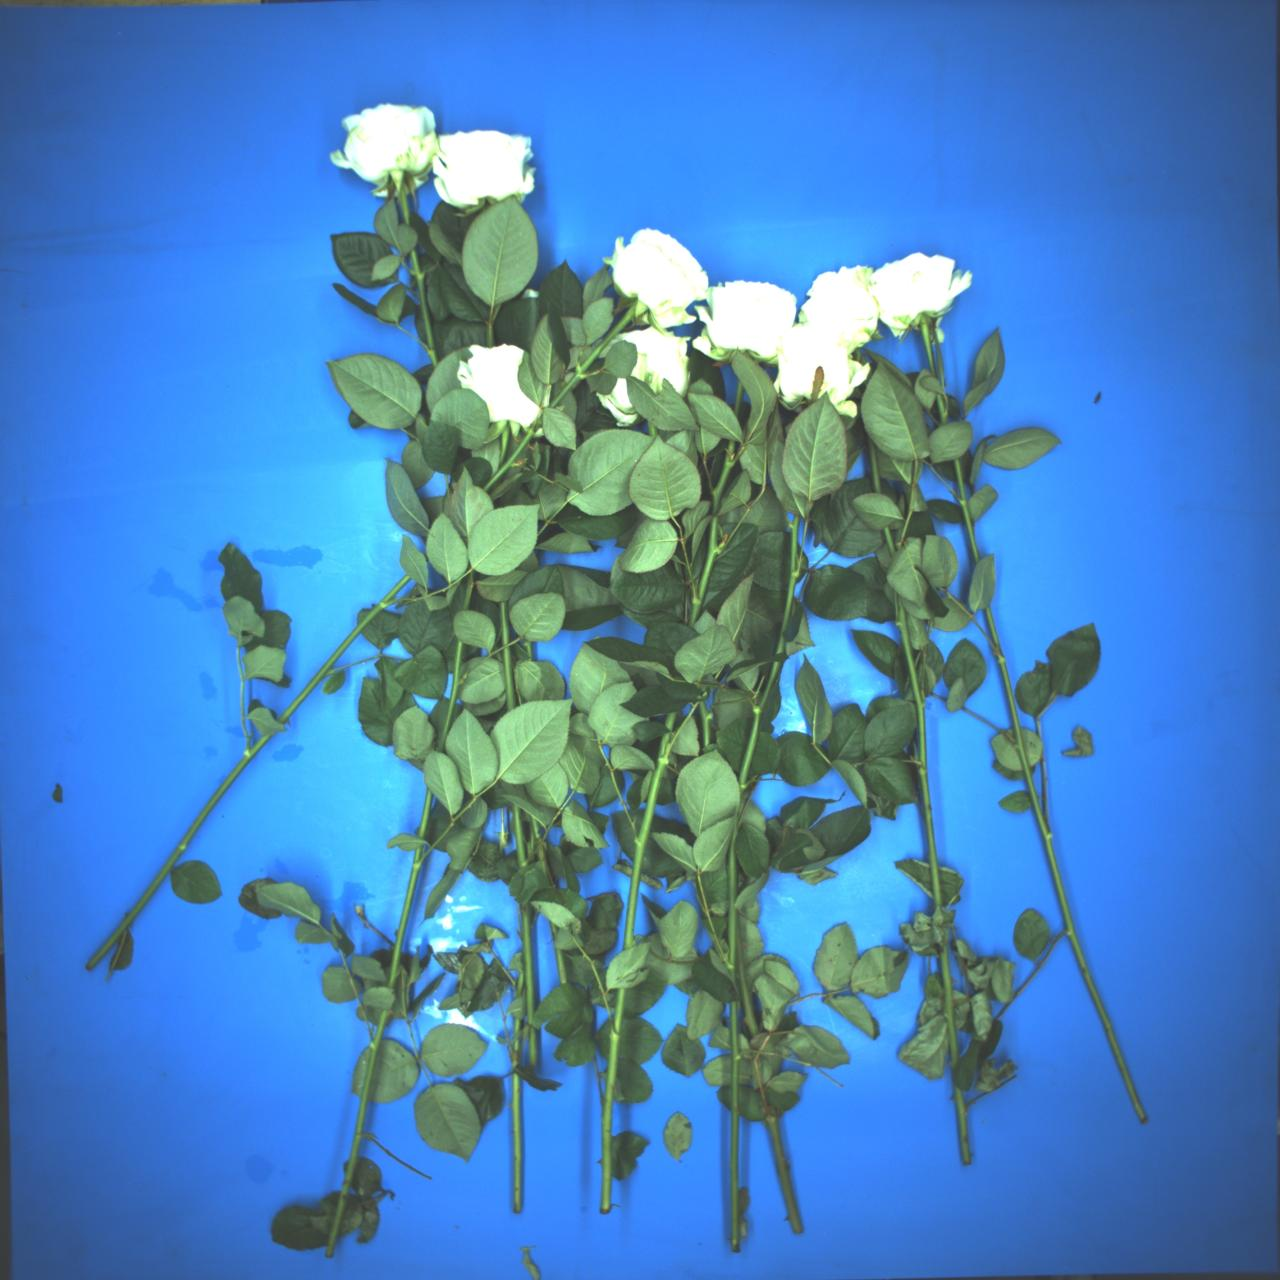Stem: (967, 606, 1149, 1130), (83, 730, 272, 973), (277, 572, 411, 726), (324, 1008, 389, 1258), (893, 595, 942, 910), (617, 730, 676, 952), (547, 307, 638, 410), (595, 988, 626, 1214), (730, 659, 779, 797), (384, 845, 425, 989), (680, 516, 730, 628), (765, 1116, 804, 1235), (431, 640, 470, 753), (409, 245, 441, 370), (776, 515, 804, 654), (728, 913, 760, 1036), (727, 1001, 742, 1253), (482, 424, 536, 495), (951, 458, 981, 565), (937, 946, 959, 1068), (706, 440, 741, 515), (520, 905, 537, 1065), (511, 1017, 522, 1214), (498, 600, 516, 712), (526, 815, 552, 883), (724, 837, 736, 979), (953, 1083, 971, 1166), (549, 920, 568, 985), (918, 320, 938, 382), (510, 804, 526, 869), (693, 700, 715, 747), (416, 789, 435, 839), (865, 434, 880, 495), (456, 568, 477, 611), (397, 183, 414, 225), (730, 381, 747, 420), (511, 968, 527, 1001), (883, 526, 897, 557), (499, 428, 510, 467), (934, 394, 947, 424), (672, 556, 683, 580), (665, 710, 676, 731), (485, 321, 493, 347), (648, 423, 658, 436)
flower: (593, 210, 723, 345), (789, 246, 904, 362), (321, 91, 448, 196), (863, 237, 982, 341), (768, 320, 877, 423), (451, 333, 544, 441), (429, 124, 538, 210), (694, 279, 797, 366), (619, 327, 689, 400), (594, 376, 641, 430)
